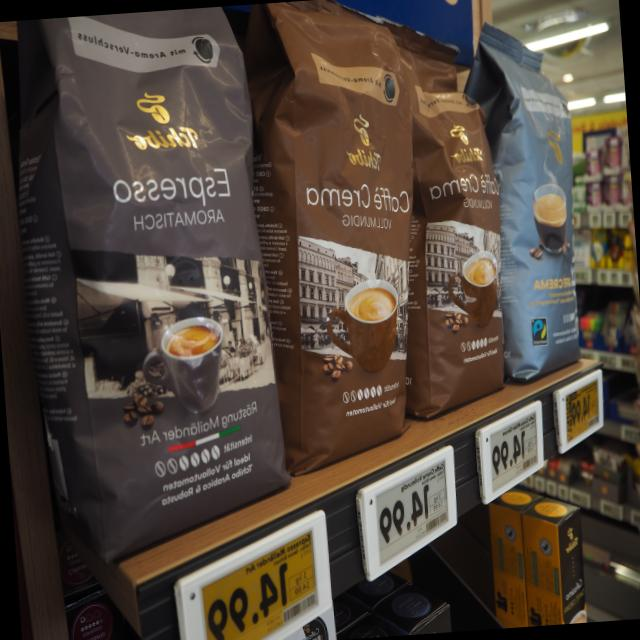Barista CC: (456, 8, 592, 390)
CC Vollmundig 36 Pads: (237, 0, 422, 488), (382, 9, 518, 427)
Espresso Aromatisch: (2, 4, 299, 595)
